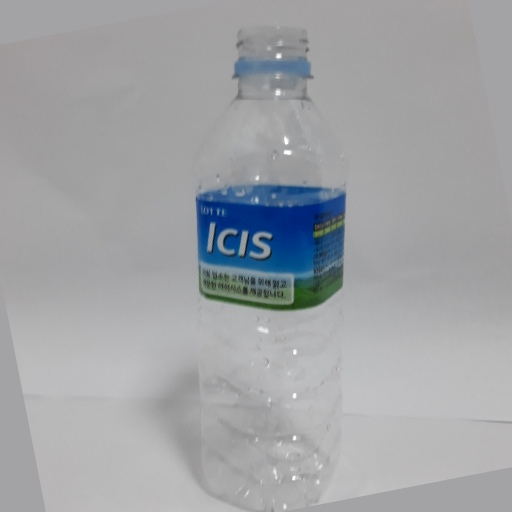Plastic_0: (185, 24, 353, 510)
